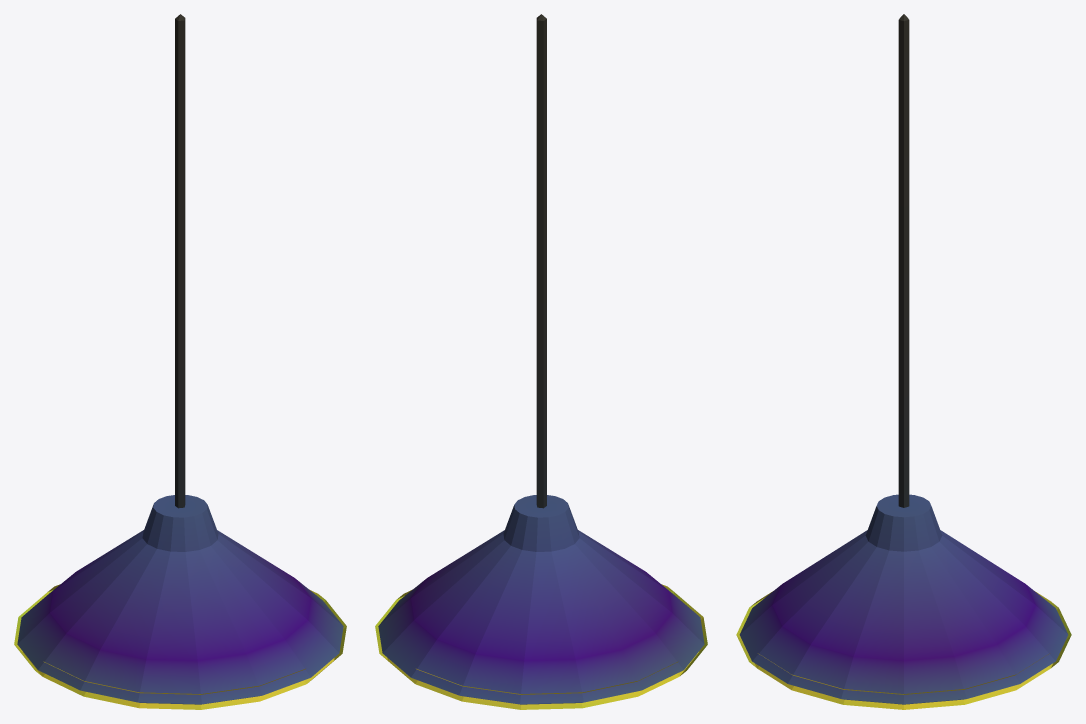
The model's file is Prop_PendantLamp.glb.
3 views of the same model, side by side, from view 1: azimuth 30°, elevation 25°; view 2: azimuth 150°, elevation 25°; view 3: azimuth 270°, elevation 25° (orthographic).
Parts seen in each view (by area): view 1: Prop_PendantLamp; view 2: Prop_PendantLamp; view 3: Prop_PendantLamp.
Boxes of the visible parts, bbox=[...] form: Prop_PendantLamp: bbox=[14, 14, 346, 709]; Prop_PendantLamp: bbox=[375, 14, 707, 709]; Prop_PendantLamp: bbox=[736, 14, 1071, 709].
Size of the model in its own units: 0.612 by 1.31 by 0.612.
